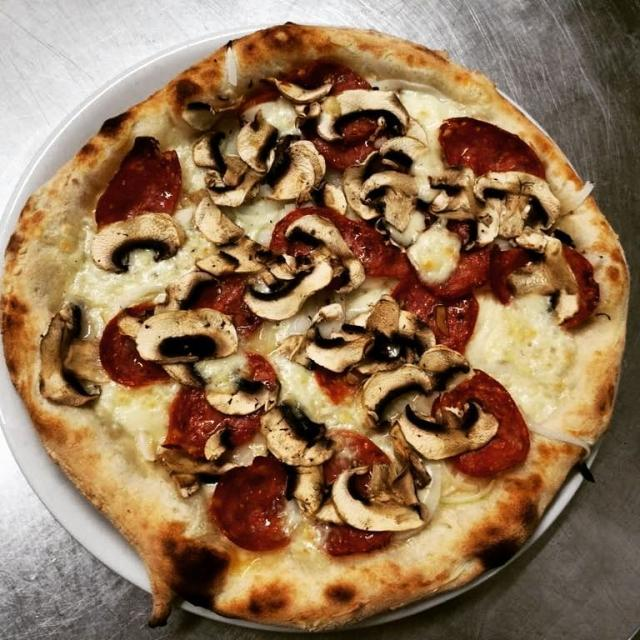mushrooms: (36, 304, 111, 409), (335, 460, 432, 535), (304, 299, 402, 366), (402, 392, 497, 460), (474, 163, 559, 238), (314, 87, 415, 148), (286, 212, 363, 291), (514, 232, 580, 324), (89, 212, 184, 273), (136, 306, 240, 361), (363, 169, 445, 232), (244, 262, 334, 318), (354, 362, 431, 425), (260, 398, 335, 462), (268, 142, 328, 200), (430, 163, 485, 221), (295, 459, 342, 526), (266, 69, 337, 111), (192, 133, 244, 190), (210, 374, 279, 415), (194, 192, 246, 245), (206, 426, 272, 464), (238, 118, 284, 170), (419, 343, 468, 382), (196, 246, 233, 278)
pepperoni: (432, 367, 528, 471), (492, 240, 599, 331), (214, 457, 310, 553), (92, 132, 181, 230), (437, 111, 550, 184), (280, 206, 389, 273), (96, 296, 174, 387), (395, 279, 481, 357), (414, 243, 501, 294)
pizza: (0, 22, 630, 634)
